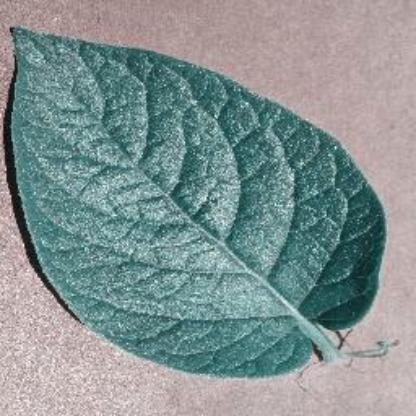Healthy-plant: (2, 20, 406, 380)
